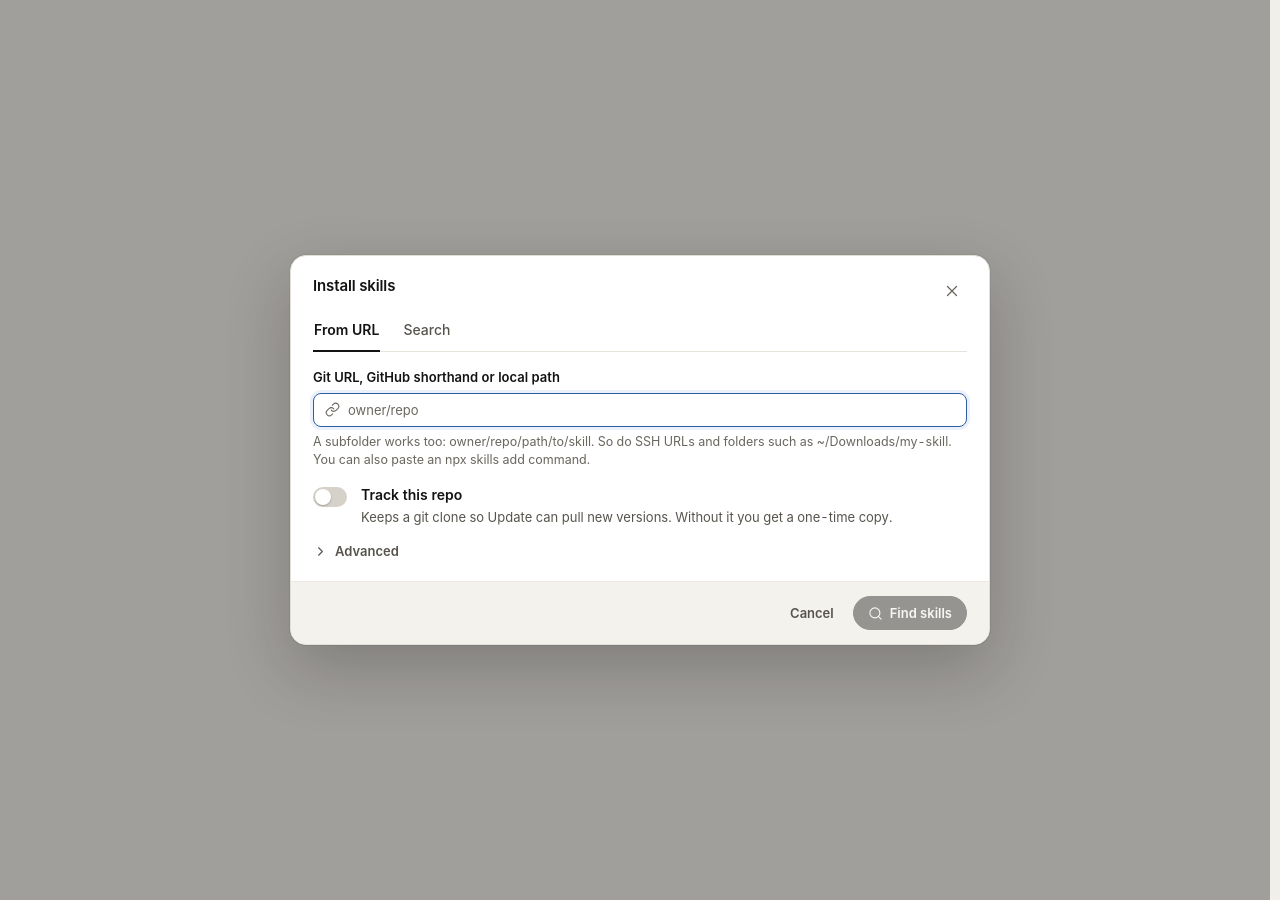
InstallDialog › reports an empty source instead of installing it when Find skills discovers nothing
In the field labelled "Git URL, GitHub shorthand or local path": [652, 410] box [348, 394, 955, 426], type "acme/notes"
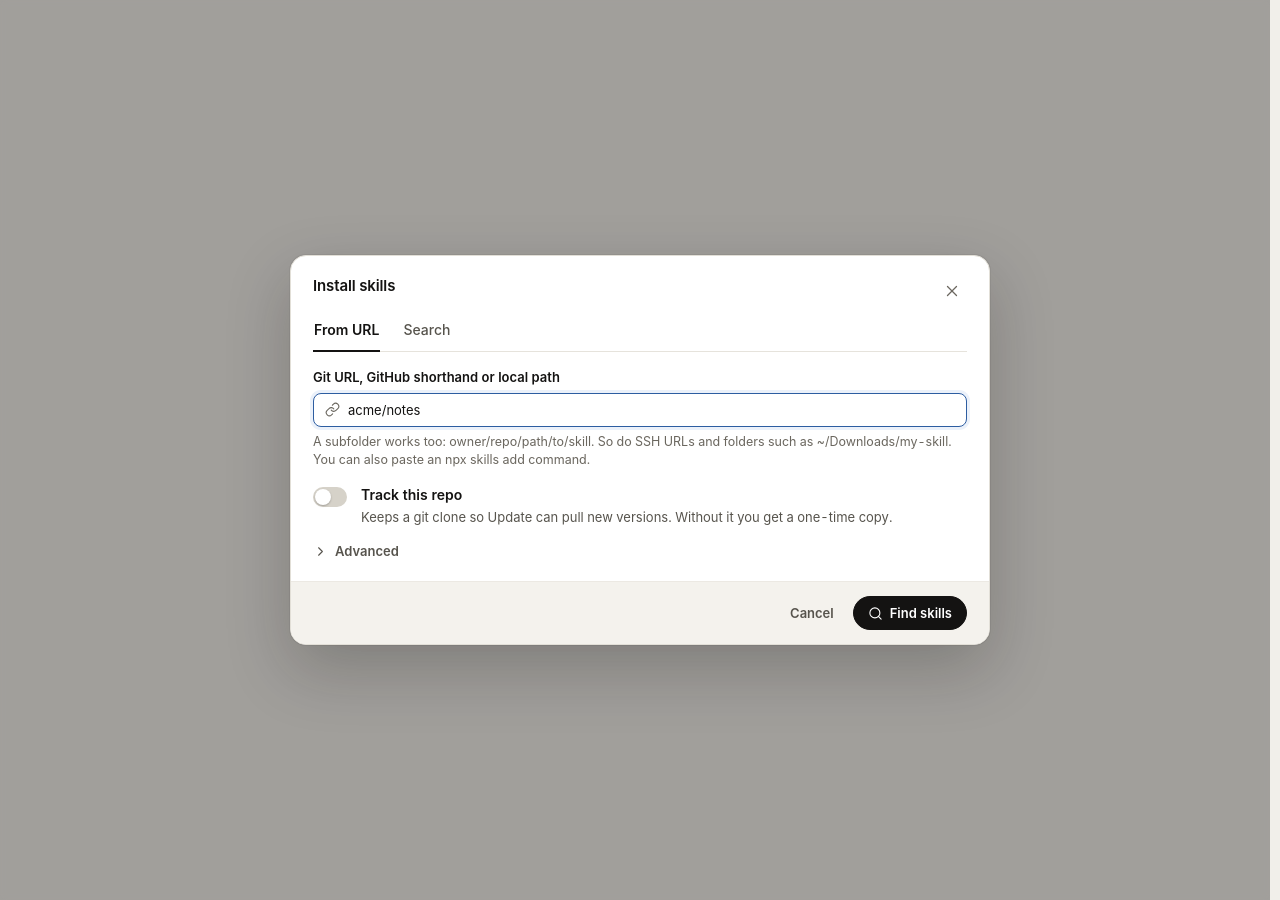
Click the button "Find skills": [910, 613] box [853, 596, 967, 630]
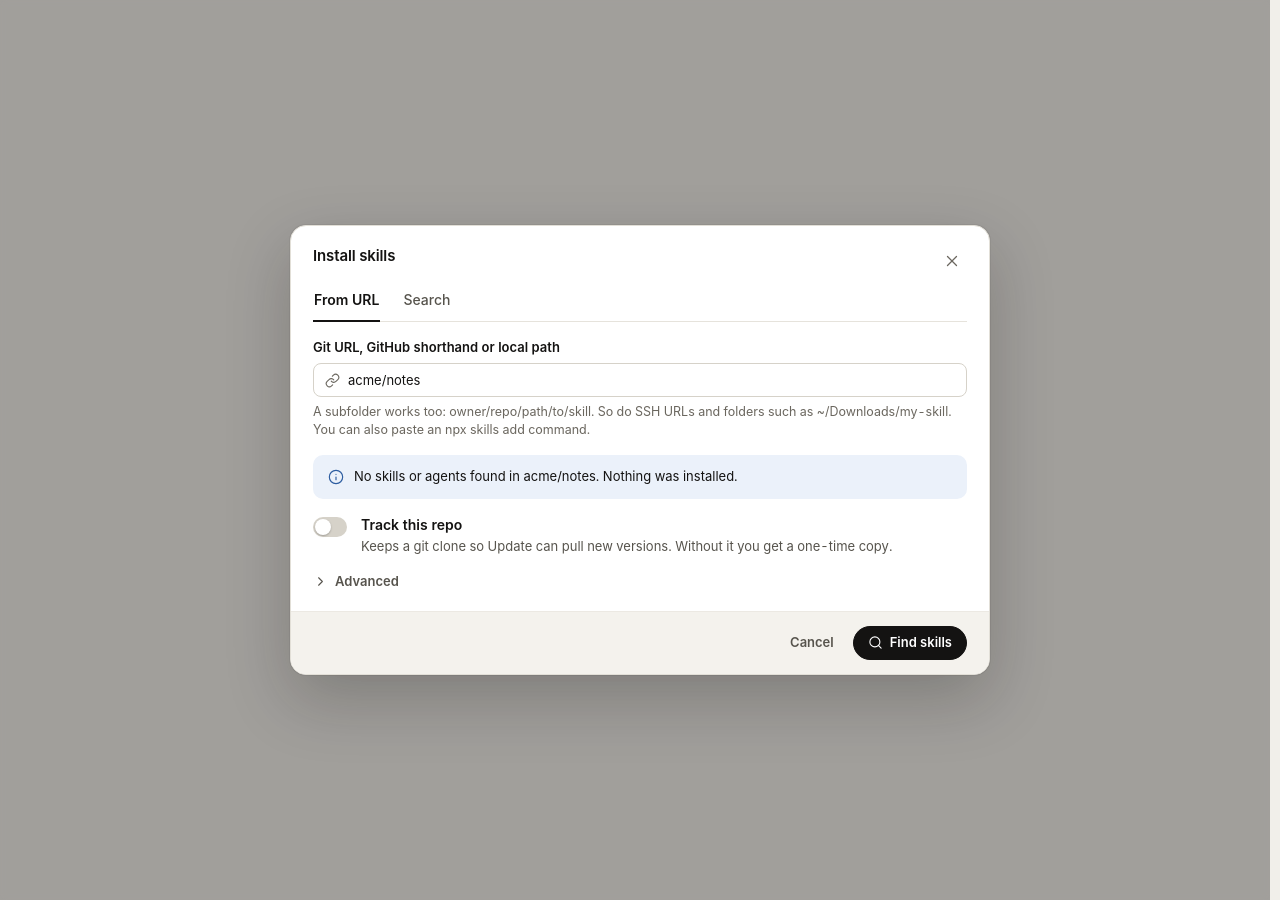
Expected: the text "No skills or agents found in acme/notes. Nothing was installed." is shown, [354, 468, 738, 484]
